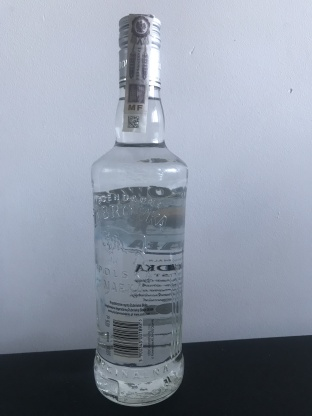nakretka: (115, 10, 163, 93)
